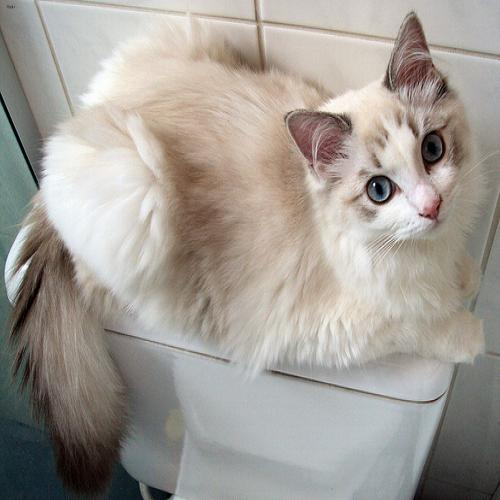ragdoll: (281, 15, 493, 283)
